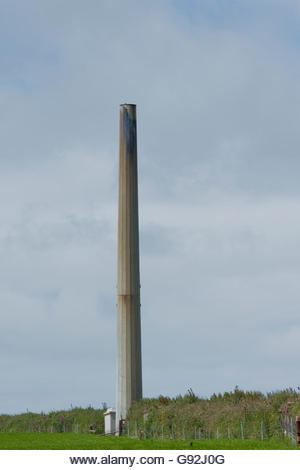faulty: (109, 99, 157, 323)
